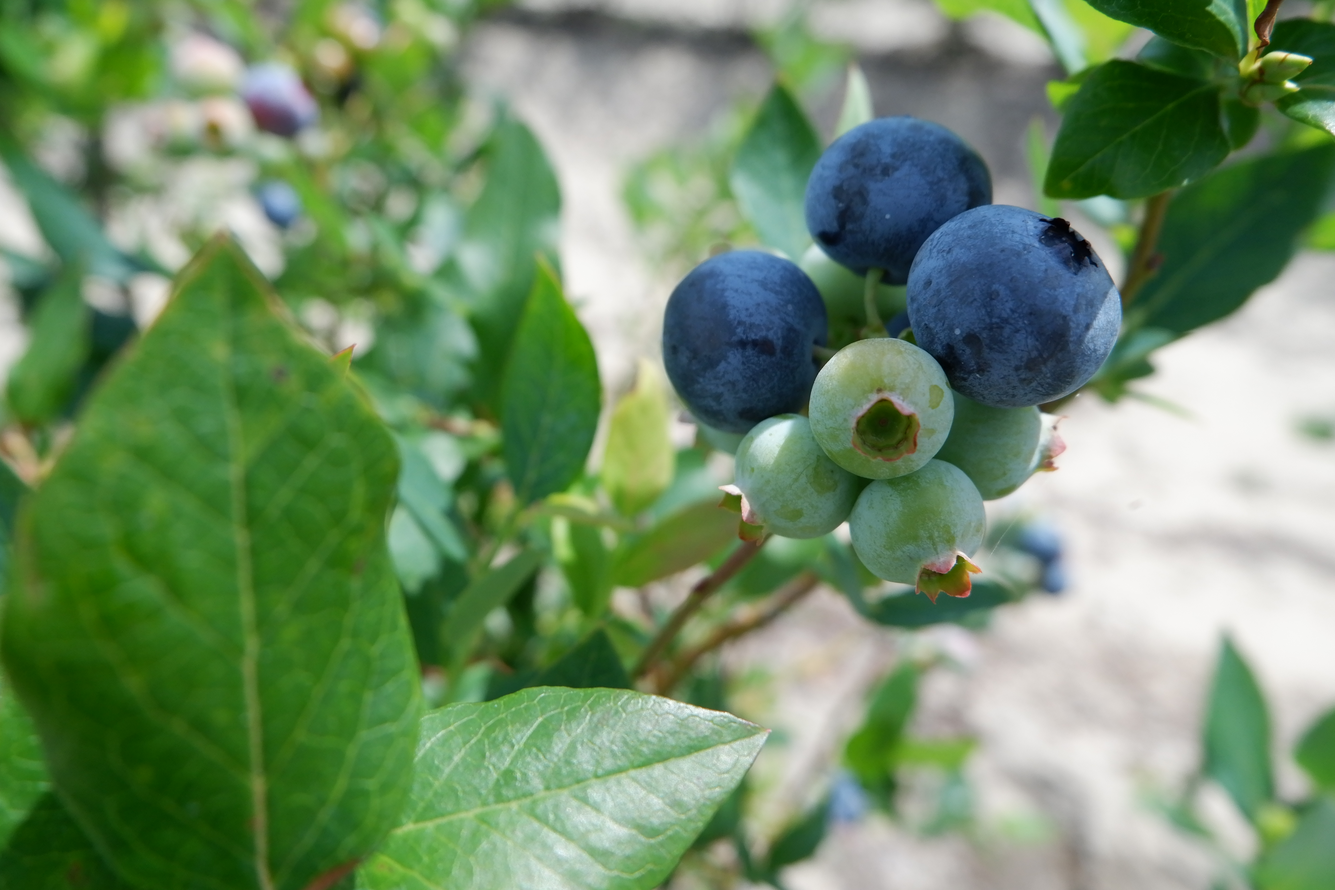Immature: (813, 340, 952, 475), (717, 417, 861, 538), (852, 462, 983, 587), (942, 390, 1064, 497), (799, 243, 906, 351), (918, 558, 973, 599)
Mature: (907, 204, 1120, 404), (807, 120, 987, 283), (667, 251, 826, 432)
